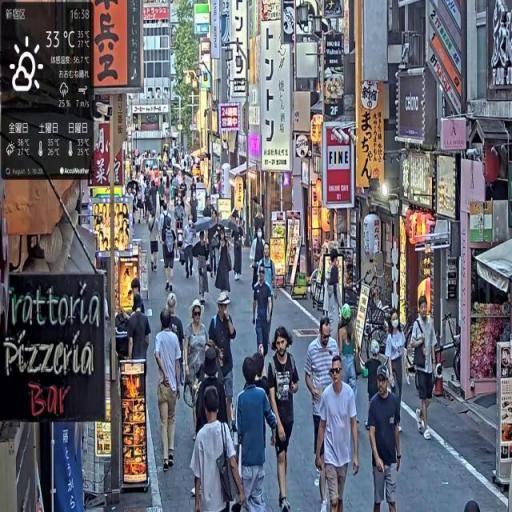person: (236, 356, 286, 512), (260, 325, 301, 512), (315, 351, 361, 512), (191, 385, 248, 512), (306, 315, 340, 501), (407, 295, 441, 442), (368, 366, 402, 512), (155, 304, 184, 473), (208, 292, 239, 419), (193, 341, 231, 440), (185, 303, 209, 440), (253, 266, 273, 366), (163, 215, 178, 295)
